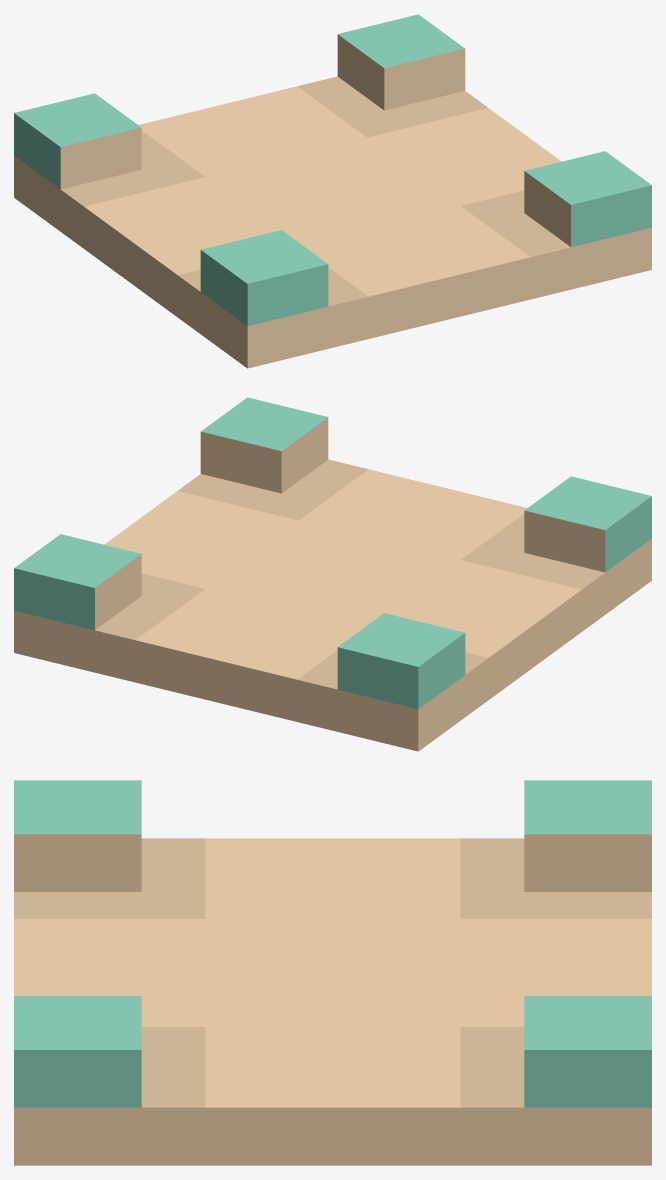
Rendered from Way_X-Cross.fbx.
3 views of the same model, one above another, from view 1: azimuth 30°, elevation 25°; view 2: azimuth 150°, elevation 25°; view 3: azimuth 270°, elevation 25° (orthographic). The views are drawn at different scales.
Parts seen in each view (by area): view 1: Way_X-Cross; view 2: Way_X-Cross; view 3: Way_X-Cross.
Boxes of the visible parts, left/top/right/bottom form: Way_X-Cross: left=14, top=14, right=651, bottom=368; Way_X-Cross: left=14, top=397, right=651, bottom=751; Way_X-Cross: left=14, top=780, right=651, bottom=1165.
Bounding box in the file's own units: 1 × 0.2 × 1.
